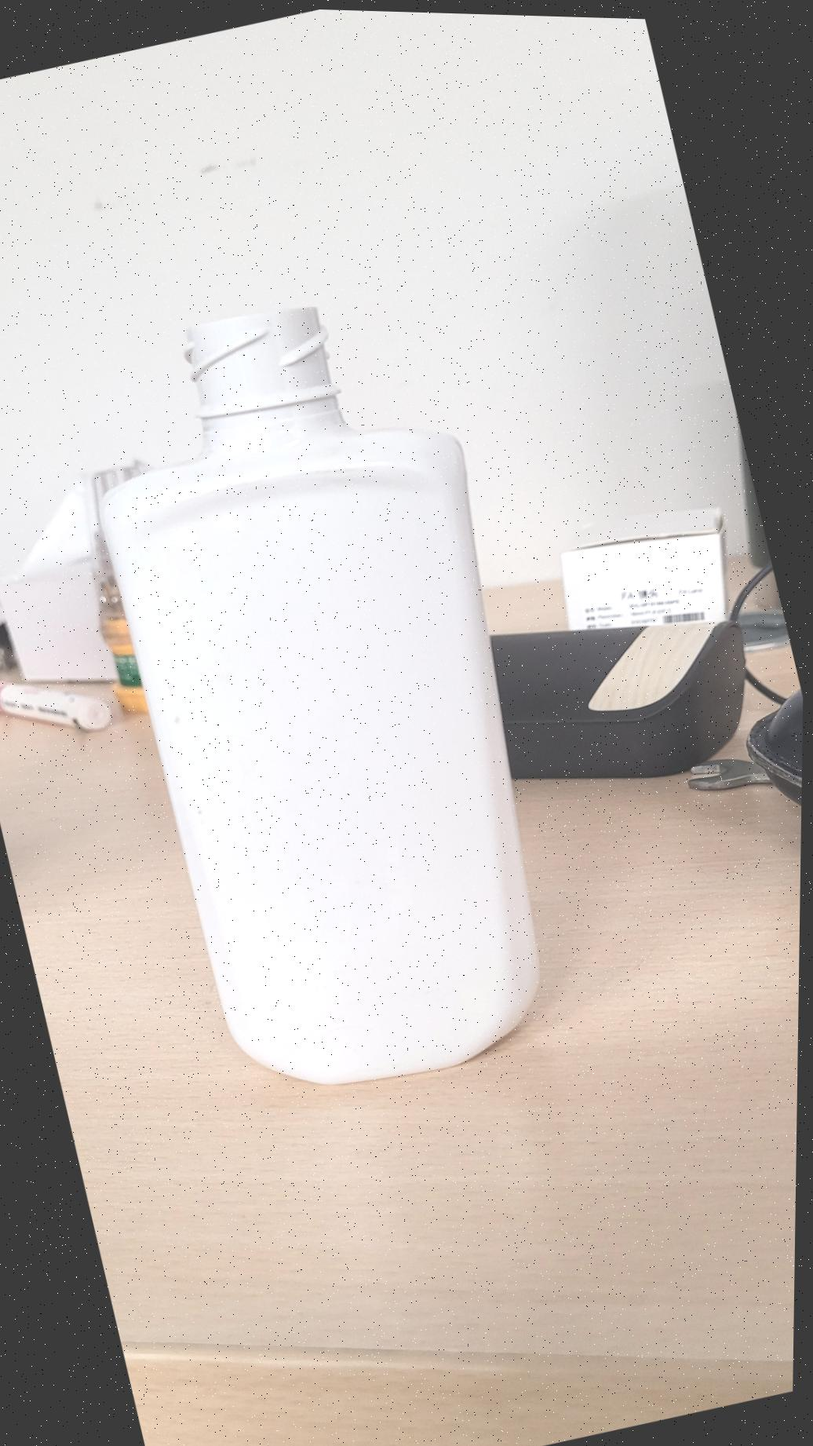bottle: (102, 306, 539, 1083)
